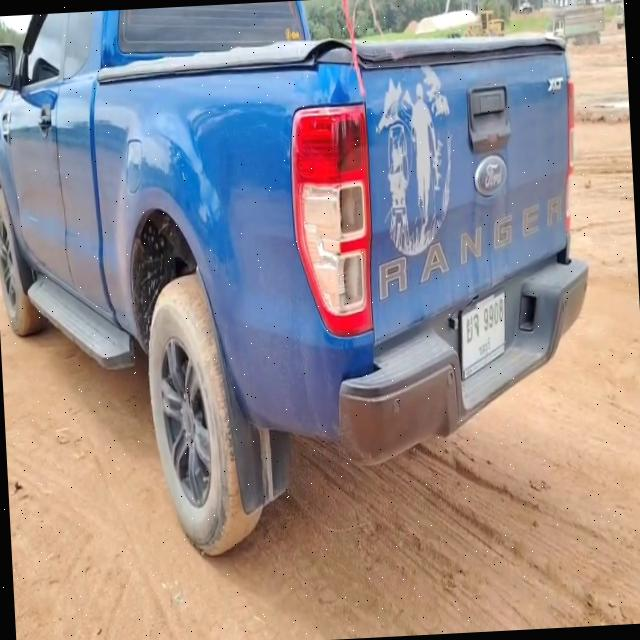Digit: (481, 298, 504, 332)
Licenseplate: (457, 286, 508, 385)
Provincename: (477, 335, 493, 359)
Thaichar: (465, 310, 480, 344)
